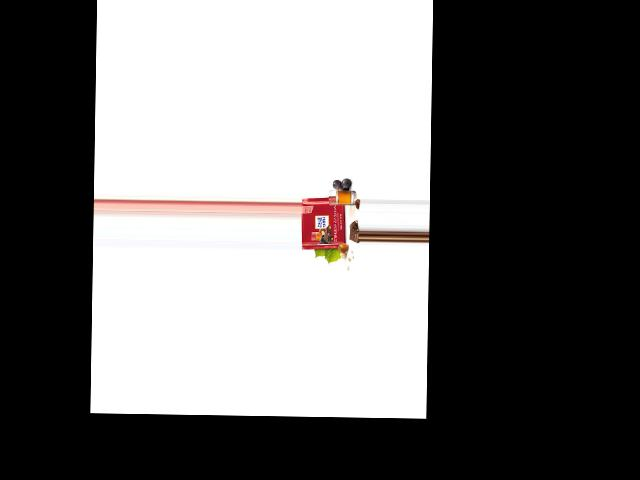chocolate: (301, 198, 346, 251)
